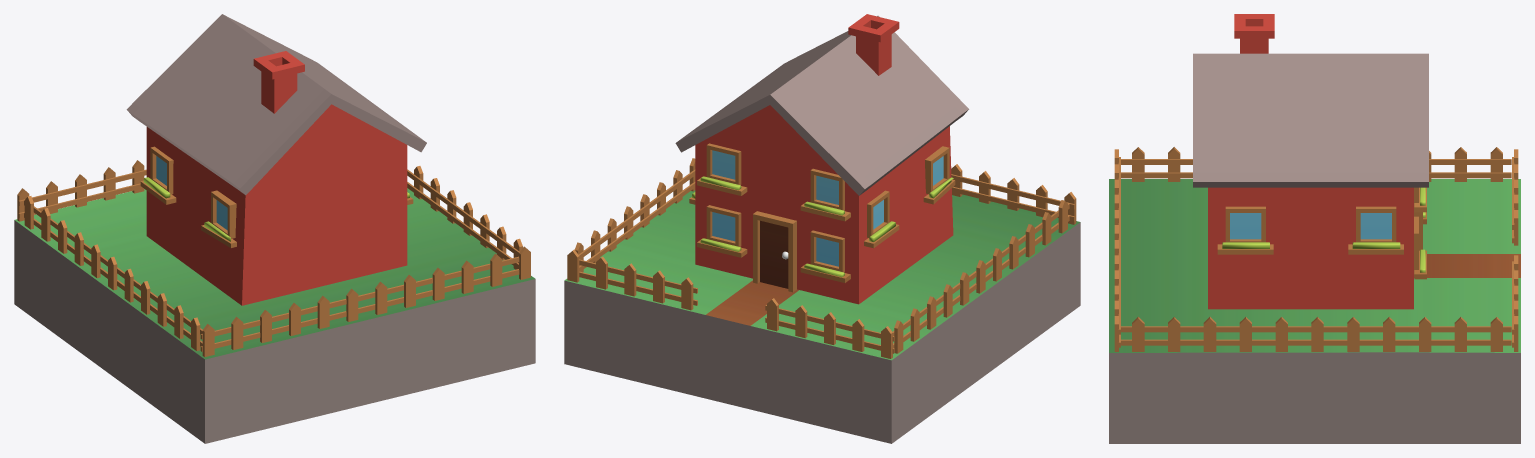
Rendered from Red_House.fbx.
3 views of the same model, side by side, from view 1: azimuth 30°, elevation 25°; view 2: azimuth 150°, elevation 25°; view 3: azimuth 270°, elevation 25° (orthographic). The views are drawn at different scales.
Visible parts, largest first — view 1: Red_House; view 2: Red_House; view 3: Red_House.
Part boxes in pixels (x1,y1,x2,y2): Red_House: (14,14,535,443); Red_House: (564,14,1080,443); Red_House: (1109,14,1520,443).
Bounding box in the file's own units: 400 × 345 × 400.
